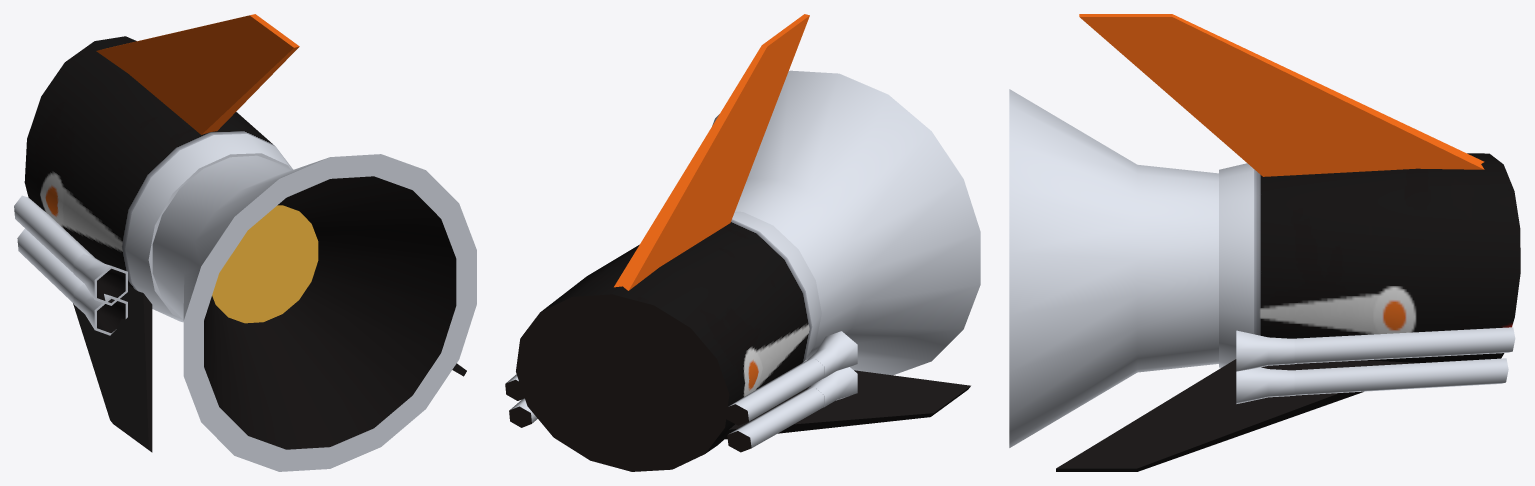
File: hotrod_debris3.obj
The picture shows the model from 3 angles, left to right: view 1: azimuth 30°, elevation 25°; view 2: azimuth 150°, elevation 25°; view 3: azimuth 270°, elevation 25°; orthographic projection. The views are drawn at different scales.
Parts seen in each view (by area): view 1: bell, hull, fin_top, fin235, pipe, pipe_tip; view 2: hull, bell, fin_top, pipe, fin235, pipe_tip; view 3: bell, hull, fin_top, fin125, pipe, pipe_tip.
Part boxes in pixels (<box>): bell: <box>152,154,476,471</box>; hull: <box>24,36,293,322</box>; fin_top: <box>96,14,299,134</box>; fin235: <box>73,285,152,452</box>; pipe: <box>14,195,94,303</box>; pipe_tip: <box>73,253,127,335</box>; hull: <box>516,211,821,471</box>; bell: <box>712,70,980,375</box>; fin_top: <box>604,14,809,320</box>; pipe: <box>505,357,824,452</box>; fin235: <box>721,370,970,439</box>; pipe_tip: <box>807,331,857,407</box>; bell: <box>1009,89,1218,447</box>; hull: <box>1219,153,1520,367</box>; fin_top: <box>1079,14,1484,176</box>; fin125: <box>1056,359,1419,471</box>; pipe: <box>1293,327,1515,395</box>; pipe_tip: <box>1236,330,1294,403</box>.
Bounding box in the file's own units: 3.31 × 3.95 × 4.39.
Materials: 7 (1 with a texture image).
